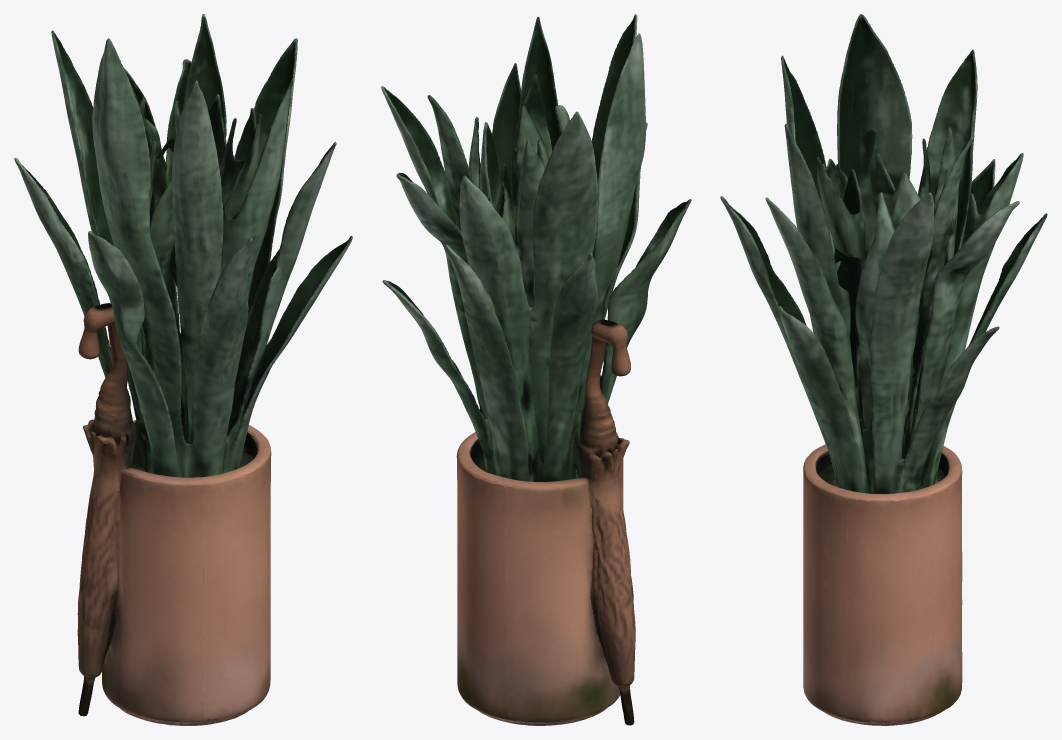
File: item_c5e76785.glb
3 views of the same model, side by side, from view 1: azimuth 30°, elevation 25°; view 2: azimuth 150°, elevation 25°; view 3: azimuth 270°, elevation 25° (orthographic). The views are drawn at different scales.
Visible parts, largest first — view 1: world; view 2: world; view 3: world.
Boxes of the visible parts, bbox=[...] form: world: bbox=[14, 14, 352, 725]; world: bbox=[381, 14, 691, 725]; world: bbox=[720, 14, 1047, 725].
Size of the model in its own units: 0.2998 by 0.75 by 0.3454.
Materials: 1 (1 with a texture image).
